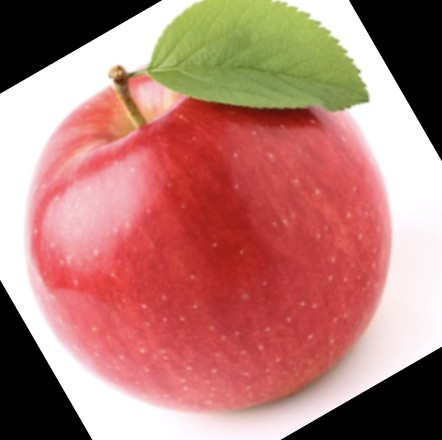fresh_apple: (28, 63, 395, 409)
